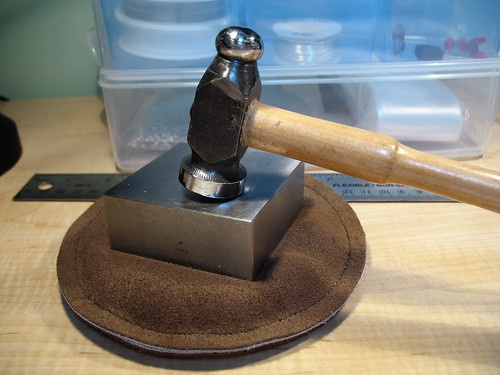hammer: (179, 23, 500, 213)
